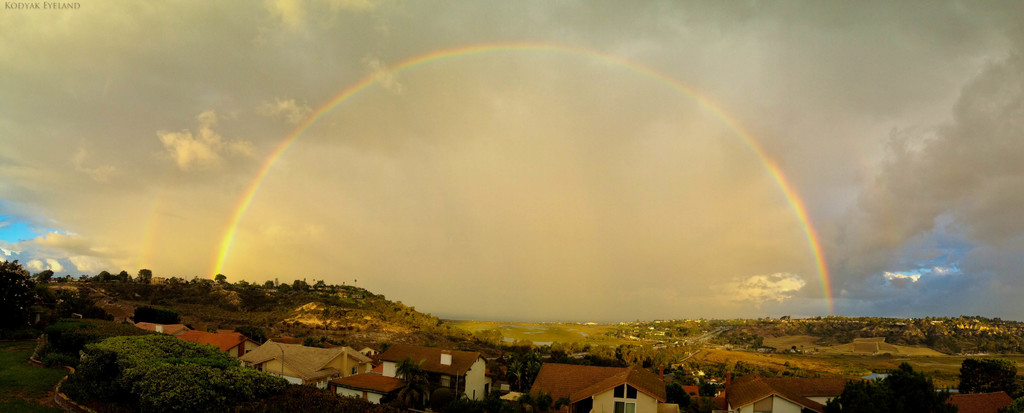Tree: (75, 327, 288, 412), (833, 361, 960, 412), (385, 348, 461, 412), (455, 380, 591, 412), (942, 354, 1023, 393), (485, 344, 536, 393)
